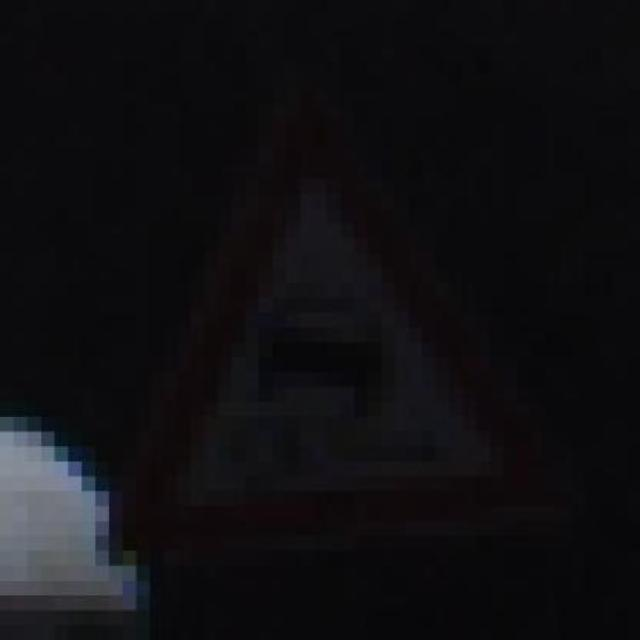Slippery Road Ahead: (42, 97, 560, 589)
